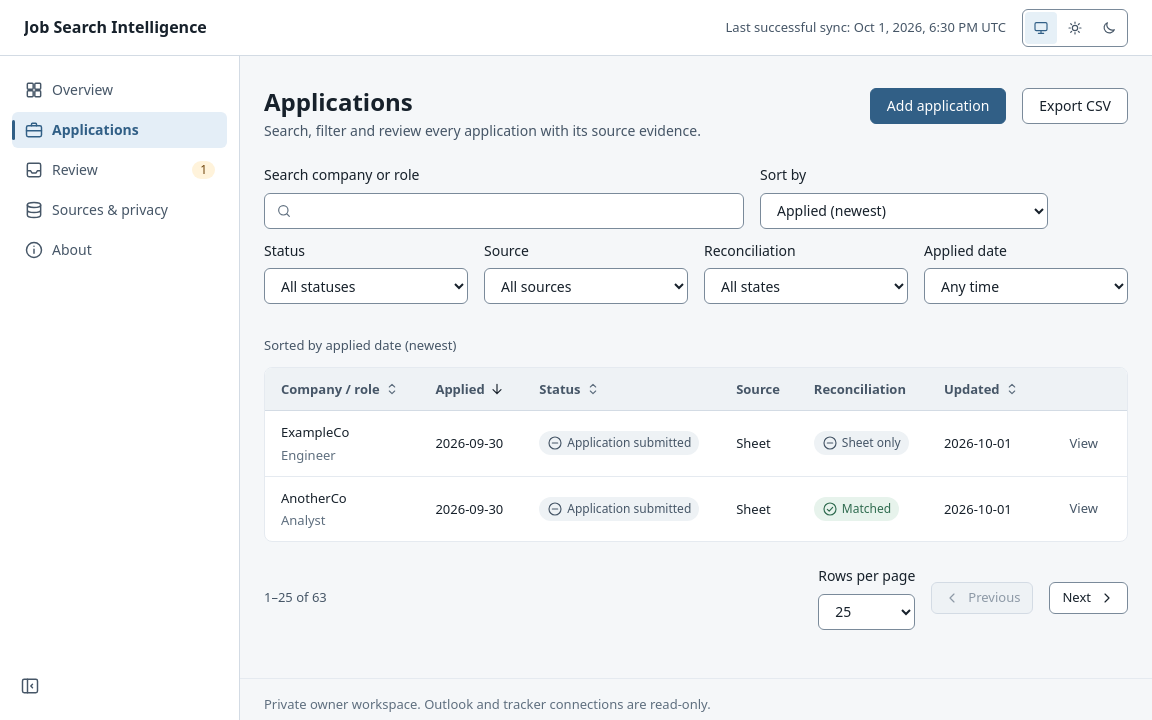
Scenario: add application › keeps the form open and reports a failure
Click the button "Add application".
click(938, 106)  # box [870,88,1006,124]
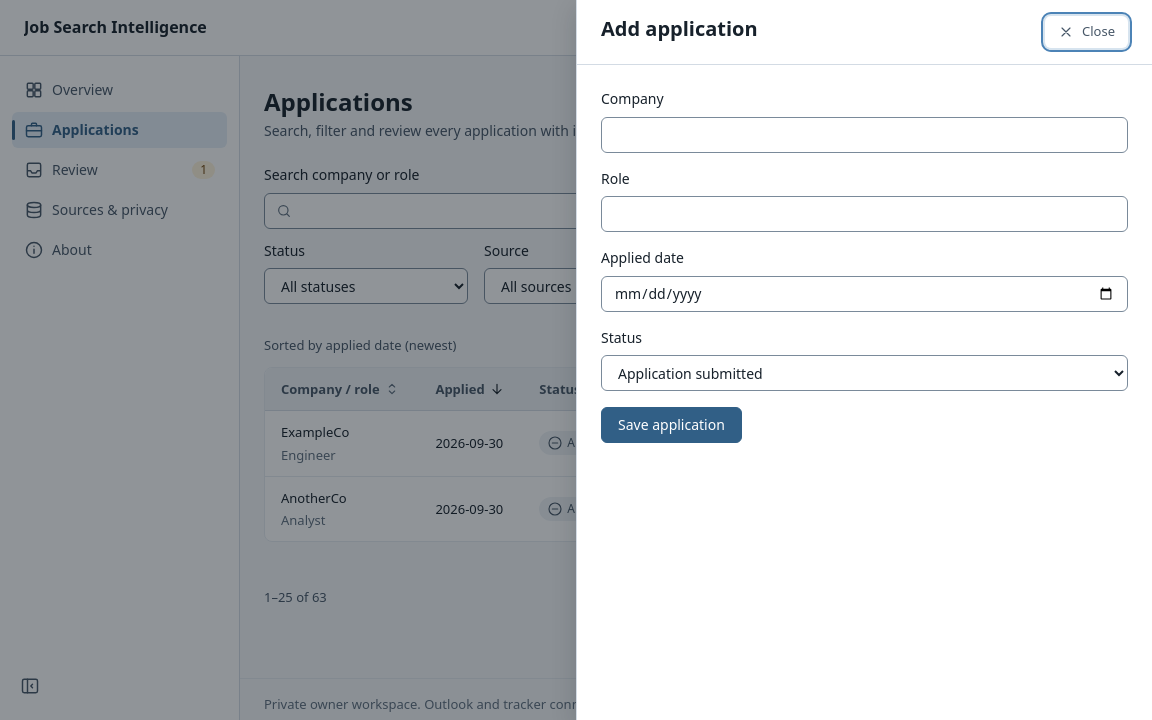
Type "NewCo" into the field labelled "Company".
click(864, 135); type("NewCo")  # box [601,117,1128,153]
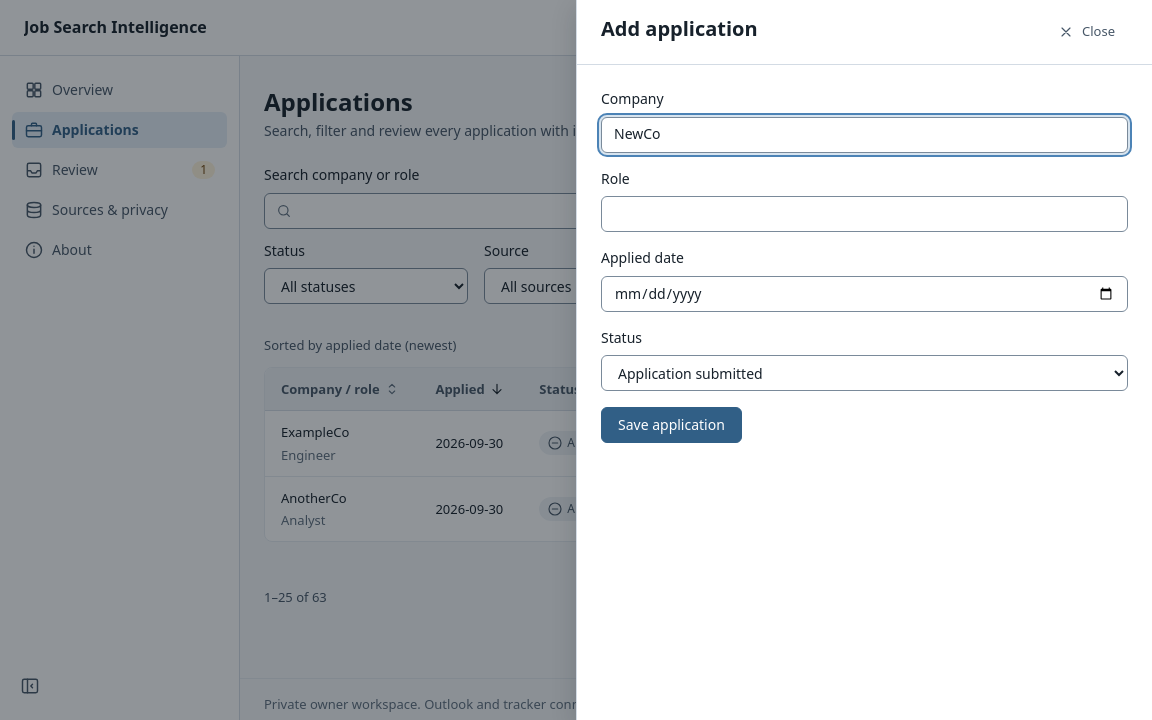
Type "Designer" into the field labelled "Role".
click(864, 214); type("Designer")  # box [601,196,1128,232]
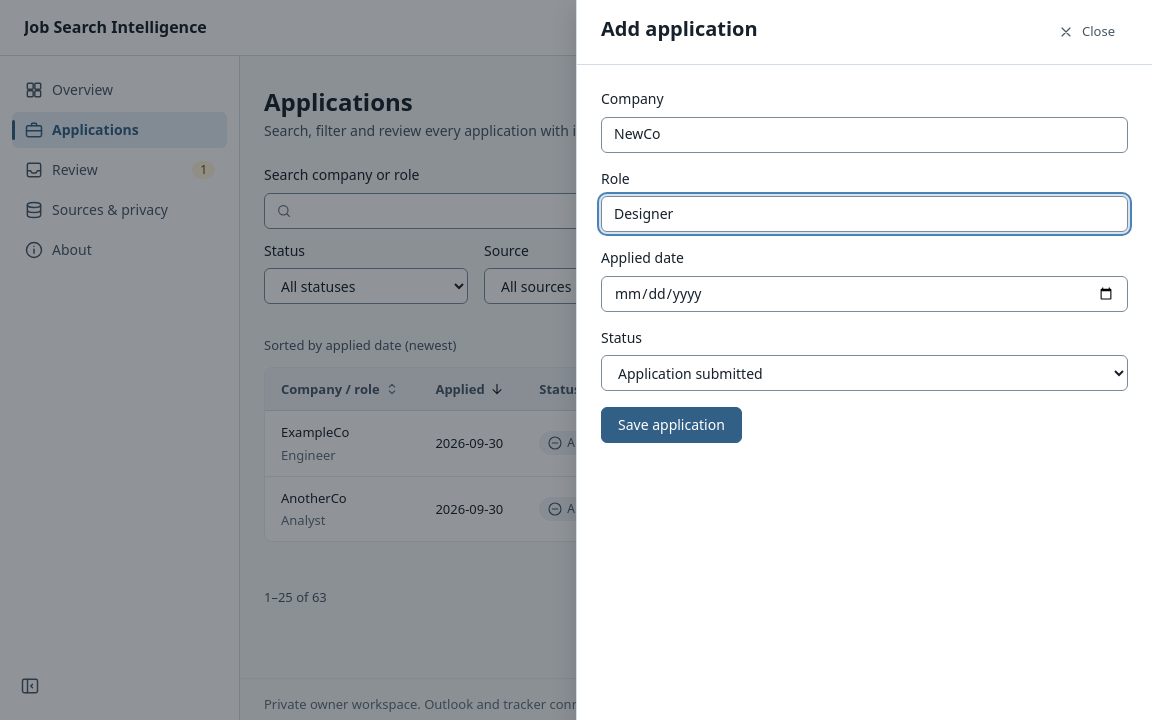
Type "2026-09-29" into the date field labelled "Applied date".
click(864, 294); type("2026-09-29")  # box [601,276,1128,312]
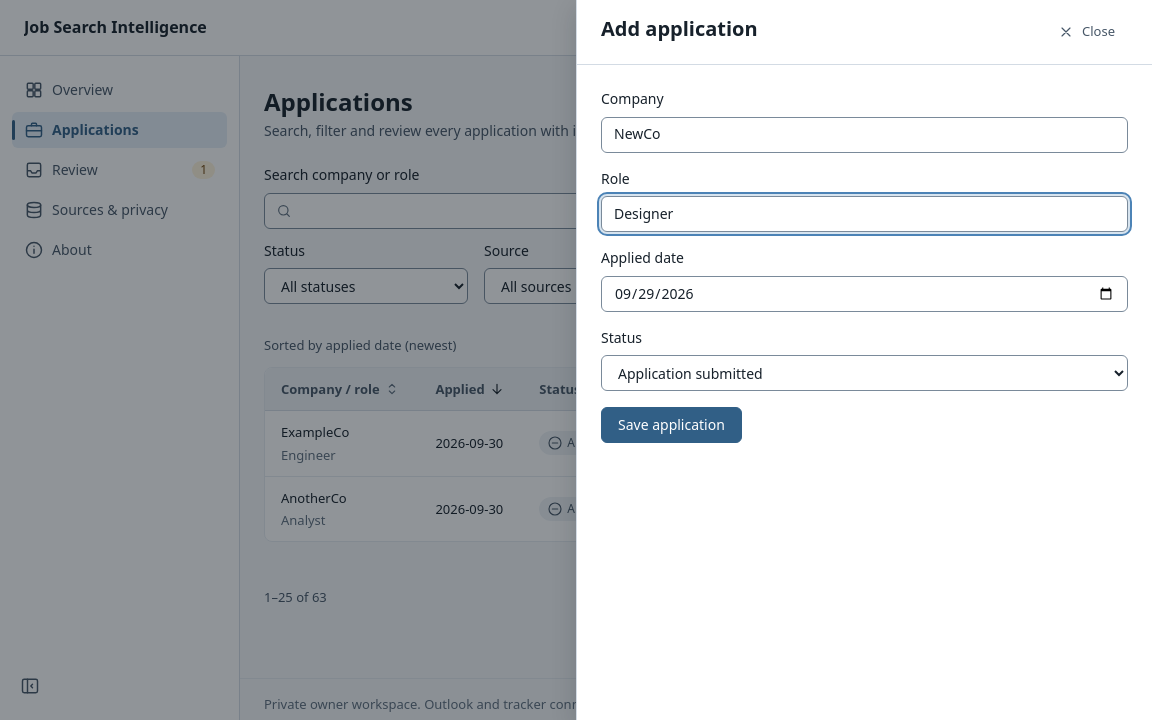
Click the button "Save application".
click(671, 425)  # box [601,407,742,443]
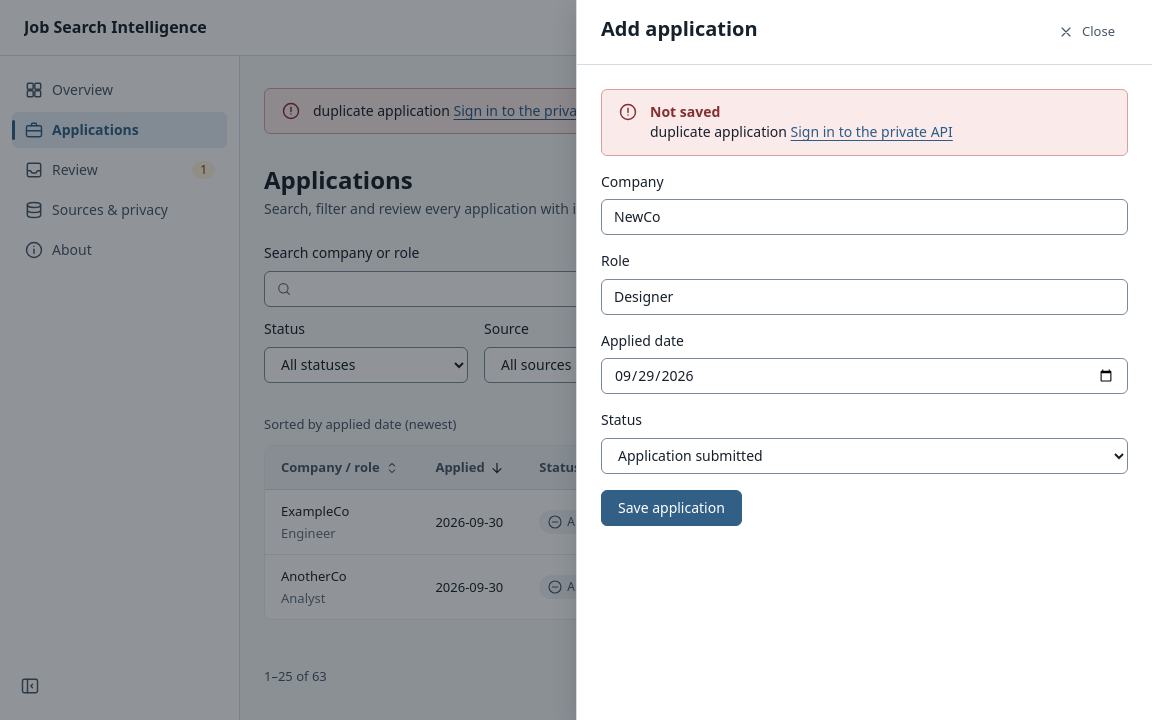
expect the text "Not saved" is shown: met, box [650,102,720,121]
expect the text "Not saved duplicate application Sign in to the private API" is shown: met, box [650,102,953,143]
